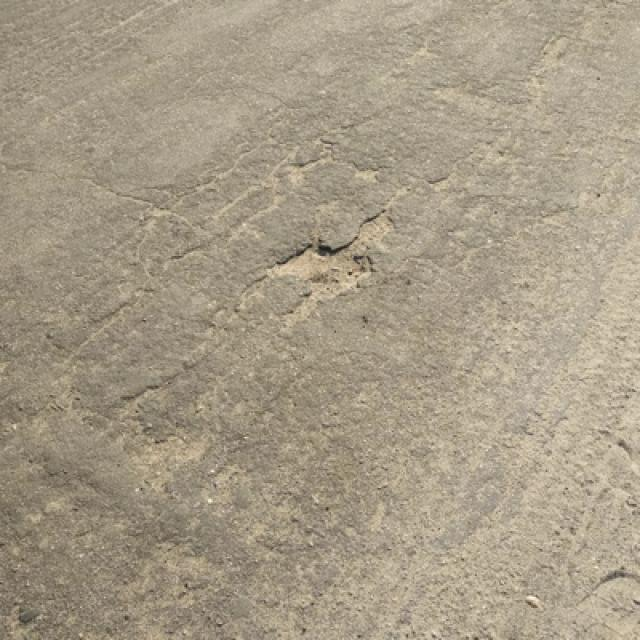Pothole: (262, 240, 380, 302), (357, 211, 400, 242)
